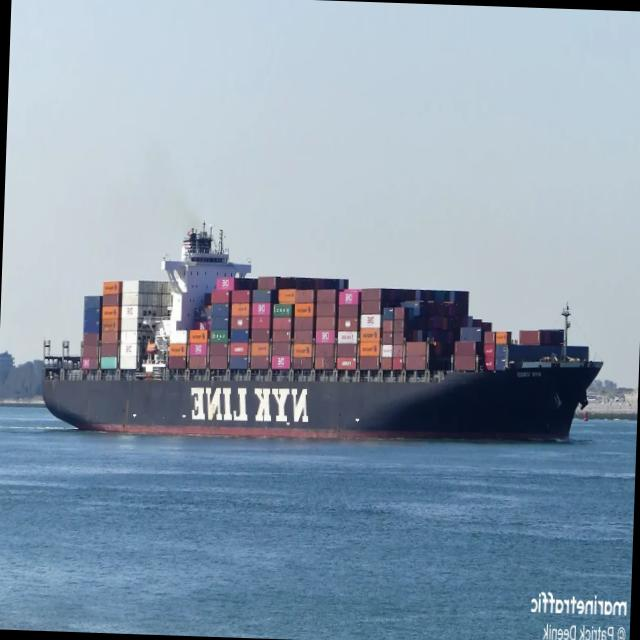Cargo: (42, 228, 602, 440)
